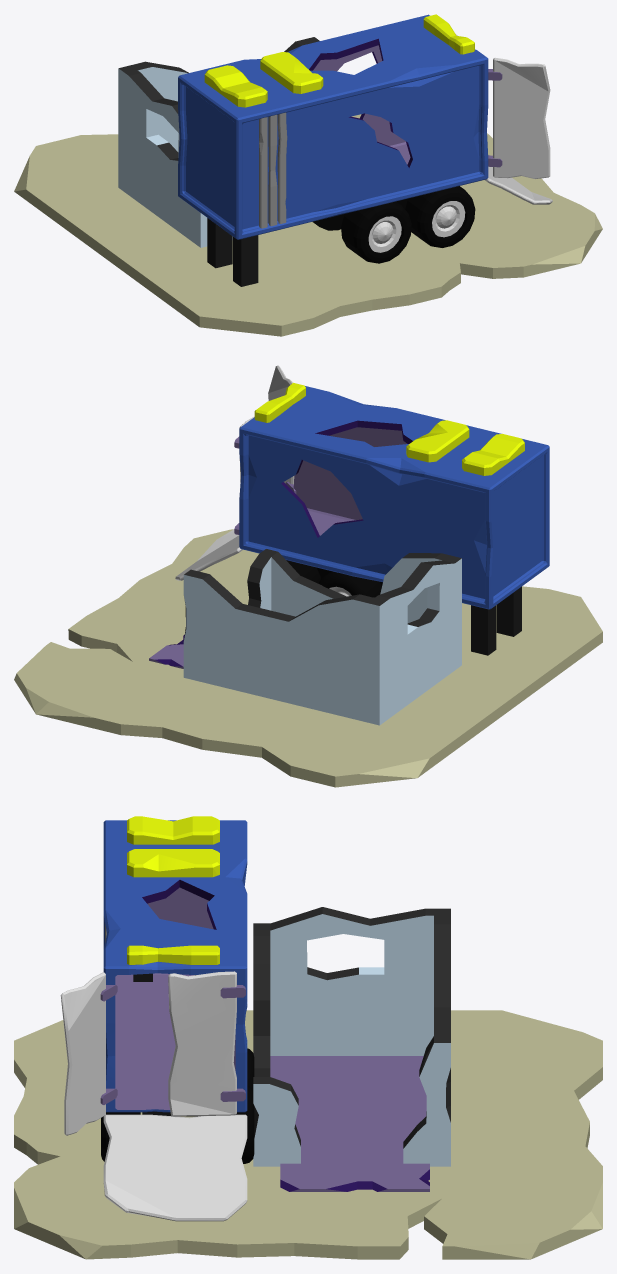
The model's file is Hospital_Ruins.FBX.
3 renders of one model, top to bottom at view 1: azimuth 30°, elevation 25°; view 2: azimuth 150°, elevation 25°; view 3: azimuth 270°, elevation 25°, orthographic. The views are drawn at different scales.
Visible parts, largest first — view 1: Truck, Foundation, Building, Wheels, Door_02, Platform; view 2: Foundation, Truck, Building, Wheels, Platform, Door_02; view 3: Foundation, Building, Truck, Platform, Door_01, Door_02, Wheels.
Boxes of the visible parts, x1,y1,x2,y2 form: Truck: (178, 14, 488, 286); Foundation: (14, 114, 602, 336); Building: (118, 37, 319, 247); Wheels: (312, 186, 475, 263); Door_02: (488, 57, 550, 178); Platform: (485, 166, 552, 204); Foundation: (14, 529, 602, 787); Truck: (239, 382, 549, 655); Building: (149, 549, 461, 725); Wheels: (286, 560, 382, 597); Platform: (175, 529, 242, 580); Door_02: (268, 365, 296, 493); Foundation: (14, 1010, 602, 1259); Building: (253, 907, 450, 1191); Truck: (103, 816, 247, 1116); Platform: (103, 1114, 247, 1221); Door_01: (168, 971, 245, 1116); Door_02: (60, 972, 117, 1135); Wheels: (101, 1048, 254, 1163).
Bounding box in the file's own units: 496 × 237 × 523.
